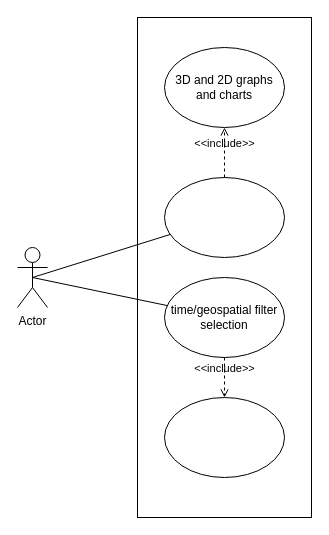
The diagram is 329 pixels wide and 535 high, and some of its shapes have lost their labels. Each missing label, with the box of its shape:
2D charts variation: (164, 396, 284, 478)
search key words: (164, 176, 284, 258)
